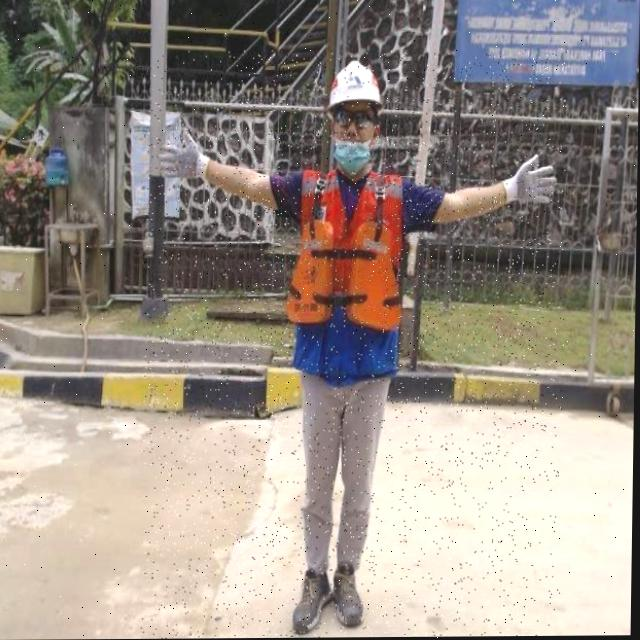Gloves: (505, 154, 559, 207), (157, 127, 210, 179)
Helmet: (327, 60, 384, 111)
Safety-Boot: (294, 568, 335, 634), (335, 562, 367, 627)
Safety-Vest: (286, 166, 407, 334)
